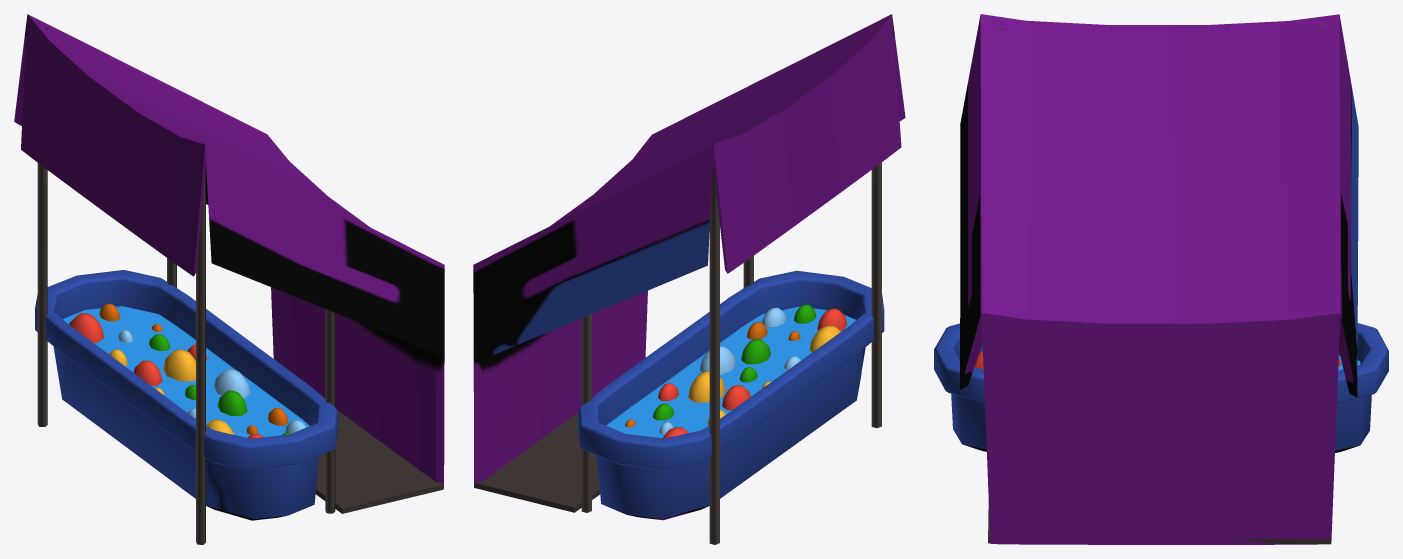
Rendered from GS_Yoyo.fbx.
3 views of the same model, side by side, from view 1: azimuth 30°, elevation 25°; view 2: azimuth 150°, elevation 25°; view 3: azimuth 270°, elevation 25° (orthographic).
Visible parts, largest first — view 1: GS_Yoyo; view 2: GS_Yoyo; view 3: GS_Yoyo.
Part boxes in pixels (x1,y1,x2,y2): GS_Yoyo: (14, 14, 444, 544); GS_Yoyo: (473, 14, 905, 544); GS_Yoyo: (934, 14, 1388, 544).
Size of the model in its own units: 311 by 476 by 477.
